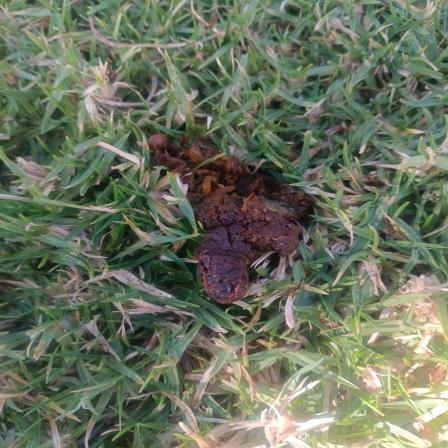dog-poop: (130, 121, 343, 309)
